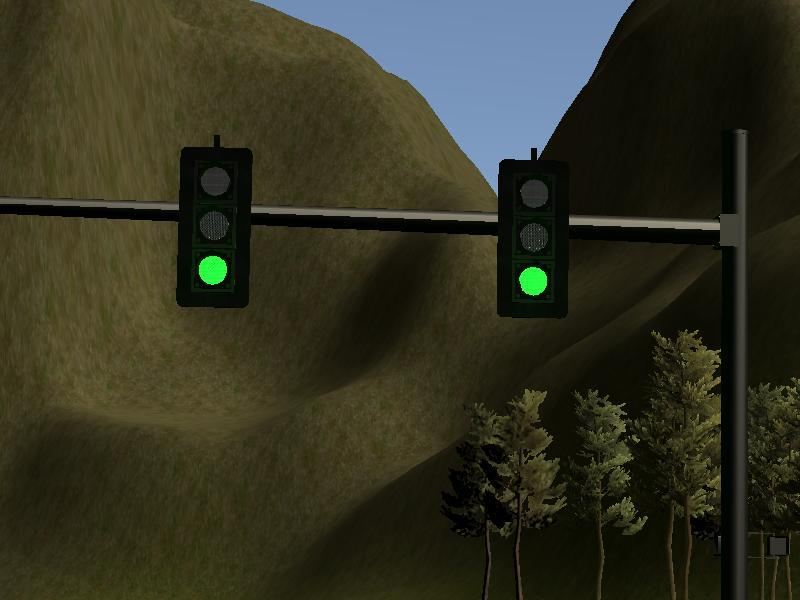Green: (177, 147, 252, 308), (497, 159, 572, 320)
